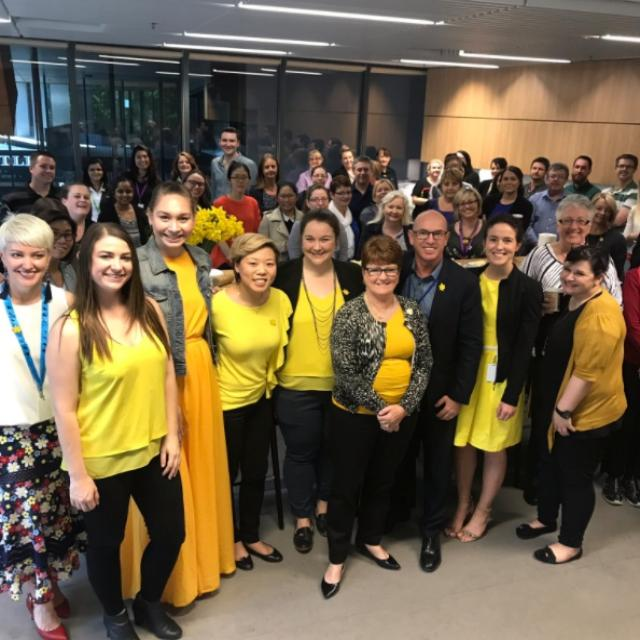body: (43, 222, 188, 639), (117, 177, 240, 611), (315, 234, 432, 600), (515, 240, 628, 567), (440, 212, 545, 545), (393, 208, 487, 576), (268, 207, 362, 554), (206, 232, 294, 572), (596, 188, 639, 510), (518, 192, 625, 319), (358, 190, 417, 297), (209, 160, 263, 272), (20, 208, 81, 298), (480, 164, 536, 258), (286, 182, 350, 263), (118, 143, 164, 246), (522, 162, 576, 249), (30, 205, 81, 295), (0, 149, 68, 215), (584, 190, 629, 288), (96, 176, 154, 250), (209, 126, 261, 208), (256, 179, 306, 264), (598, 152, 640, 236), (445, 186, 492, 258), (326, 173, 362, 263), (53, 180, 99, 250), (248, 152, 290, 219), (409, 157, 446, 223), (81, 154, 116, 223), (348, 156, 376, 234), (560, 153, 602, 202), (358, 177, 394, 228), (294, 164, 332, 212), (295, 149, 334, 193), (474, 156, 509, 204), (444, 144, 476, 191), (180, 167, 214, 210), (519, 155, 552, 199), (375, 145, 399, 190), (168, 151, 199, 184), (338, 144, 359, 184)
